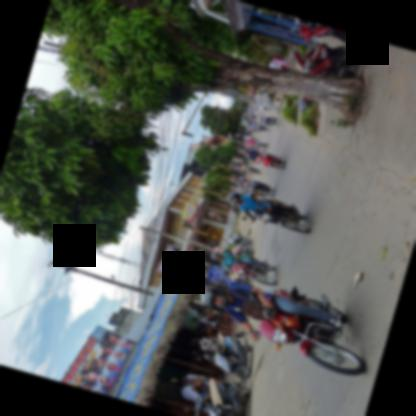backpack: (226, 280, 255, 313), (202, 340, 223, 351)
